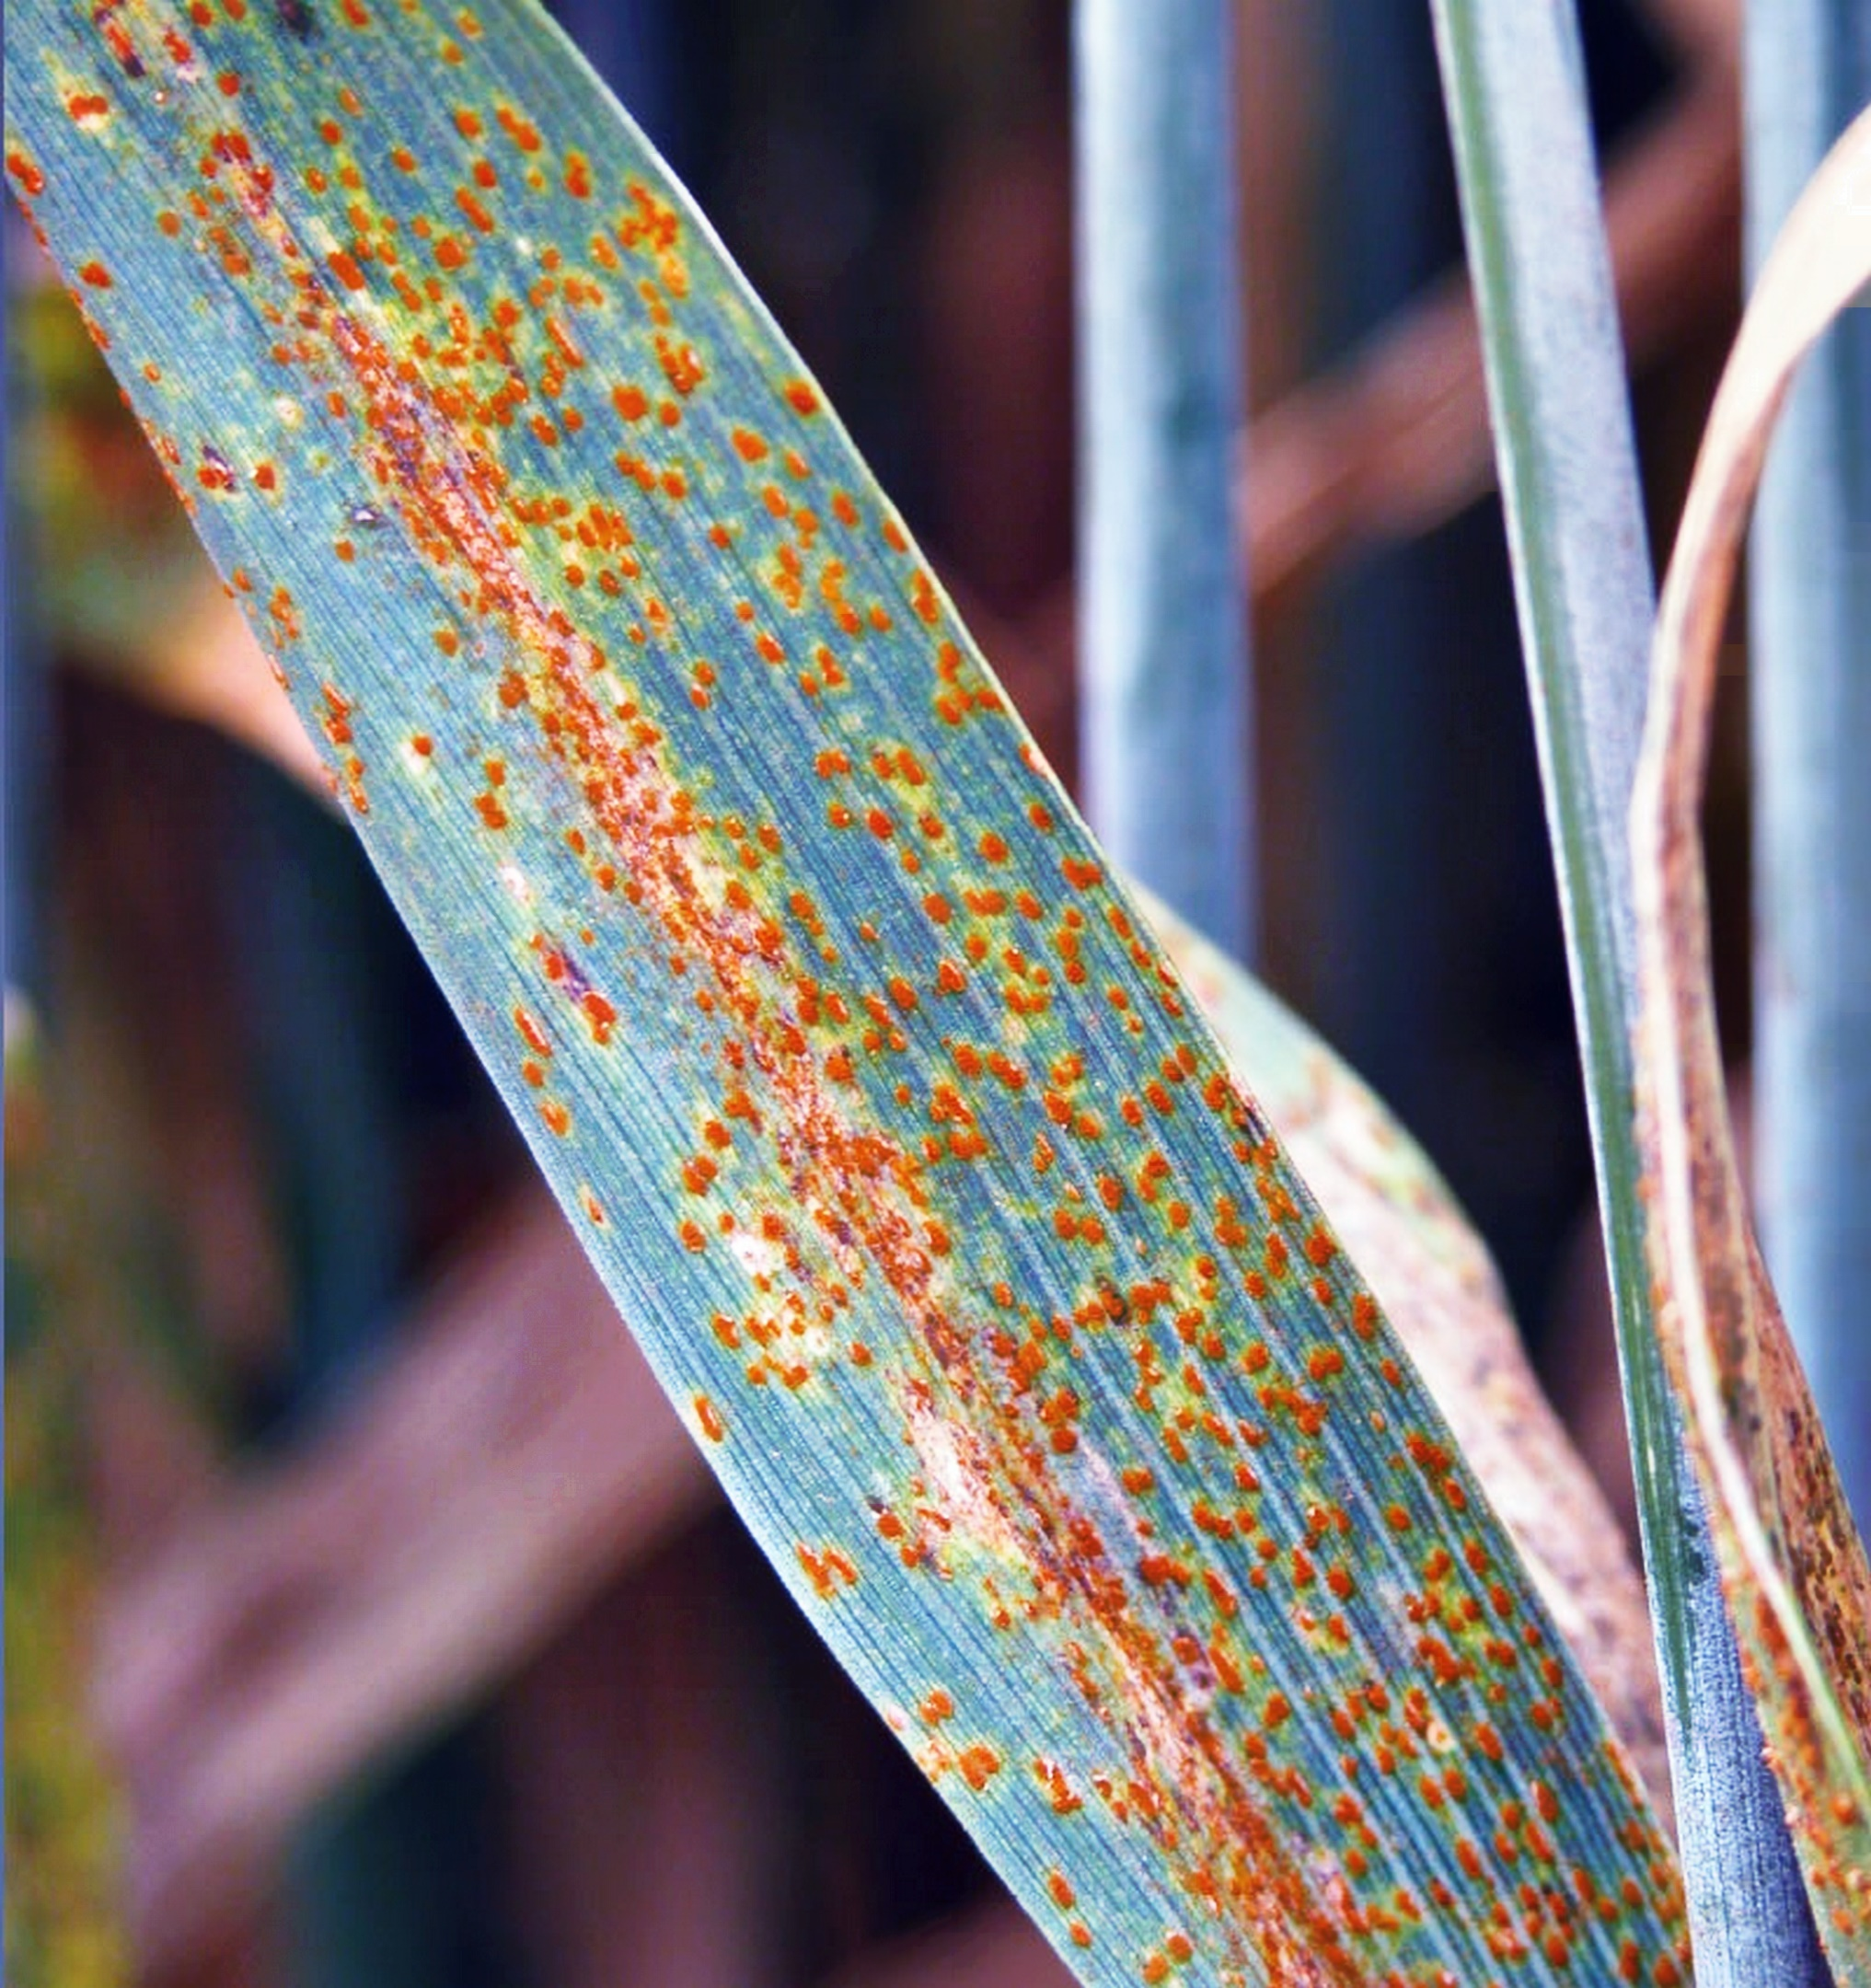Leaf Rust: (207, 204, 1637, 1851)
